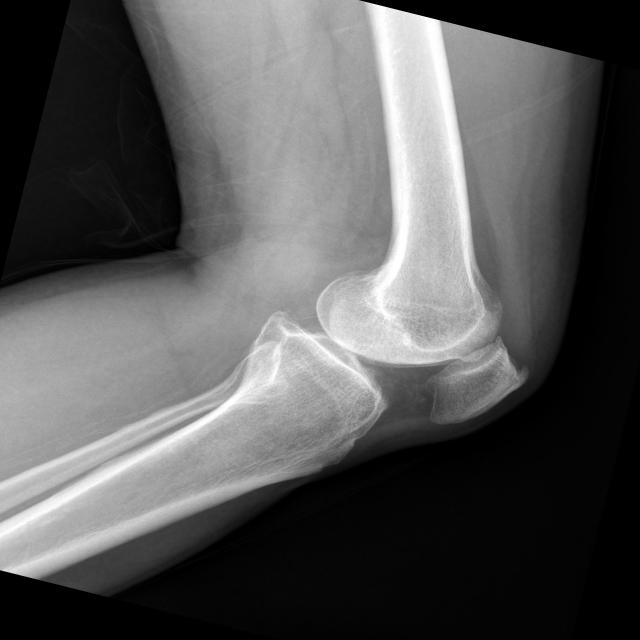Knee: (238, 248, 546, 472)
